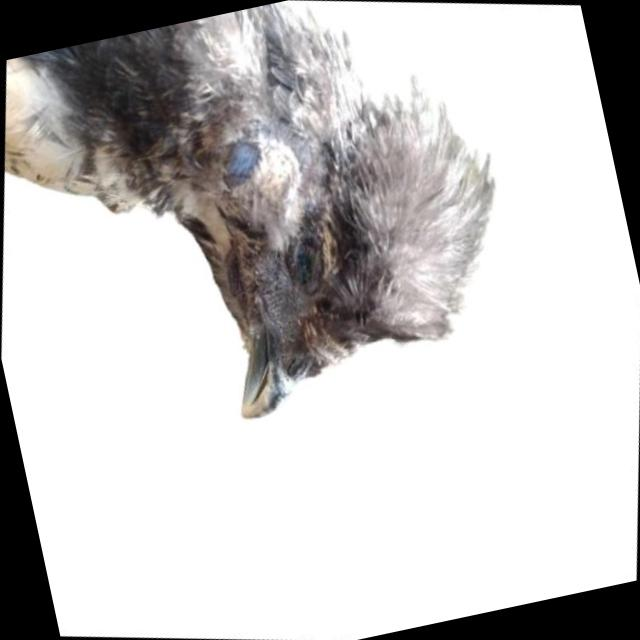Coryza: (238, 180, 366, 332)
